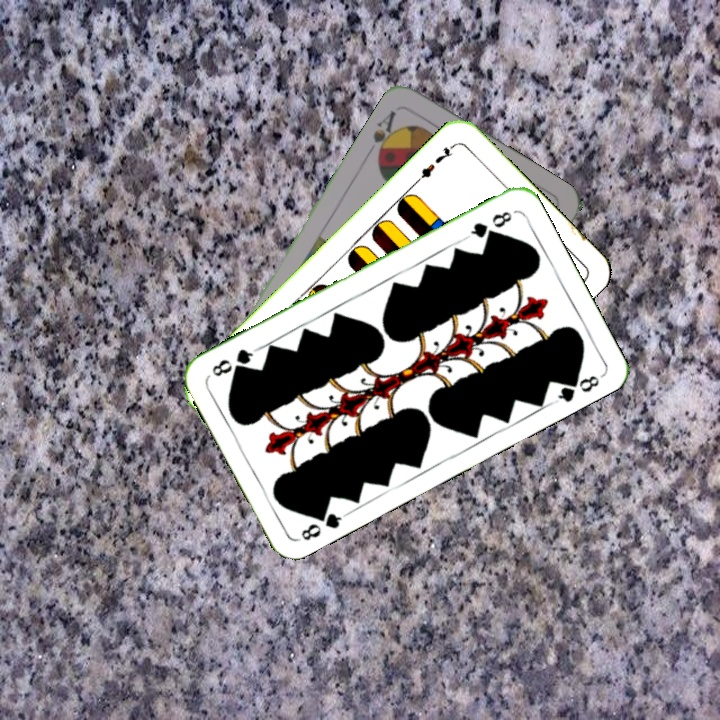E7: (412, 140, 458, 186)
G8: (295, 504, 350, 544), (462, 207, 515, 242)
SA: (368, 106, 403, 163)
